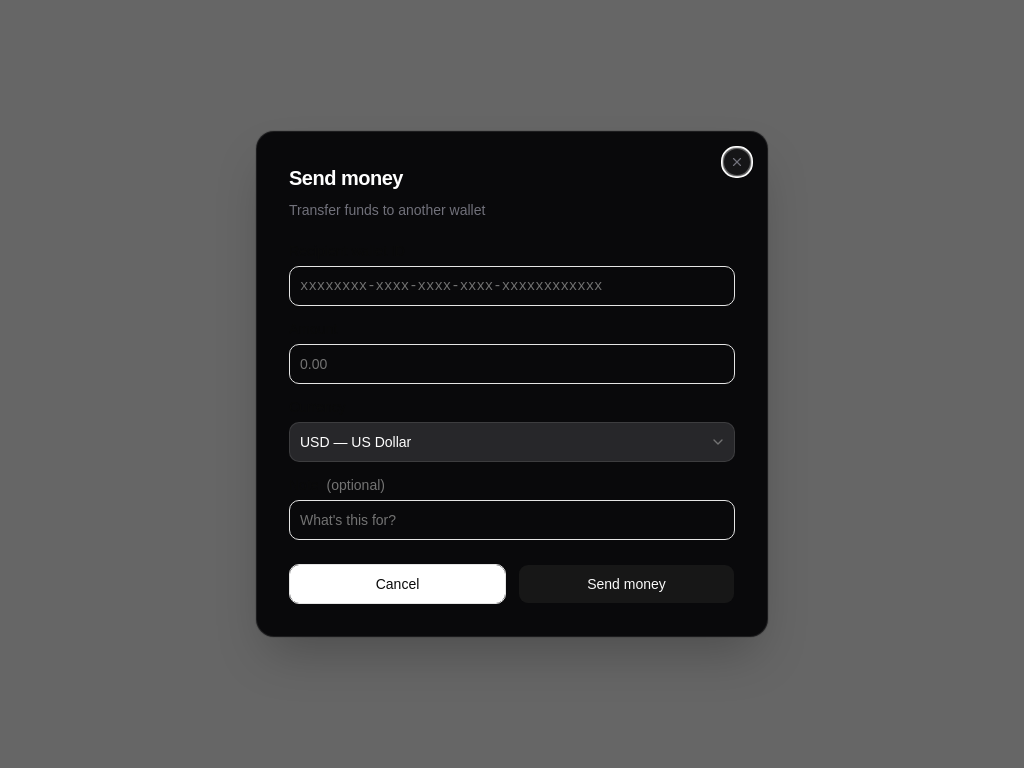
SendMoneyModal — form validation › shows error when amount is zero
Type "12345678-1234-4234-8234-123456789012" into the field labelled "Recipient wallet ID".
click(512, 286); type("12345678-1234-4234-8234-123456789012")  # box [289,266,735,306]
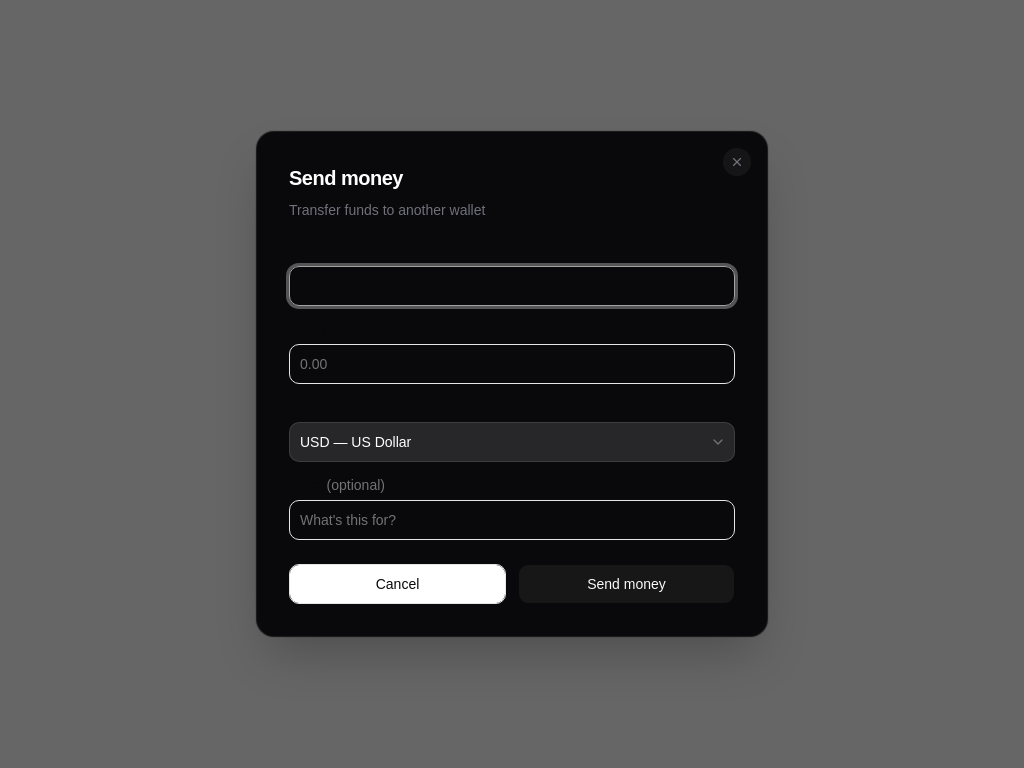
Type "0" into the field labelled "Amount".
click(512, 364); type("0")  # box [289,344,735,384]
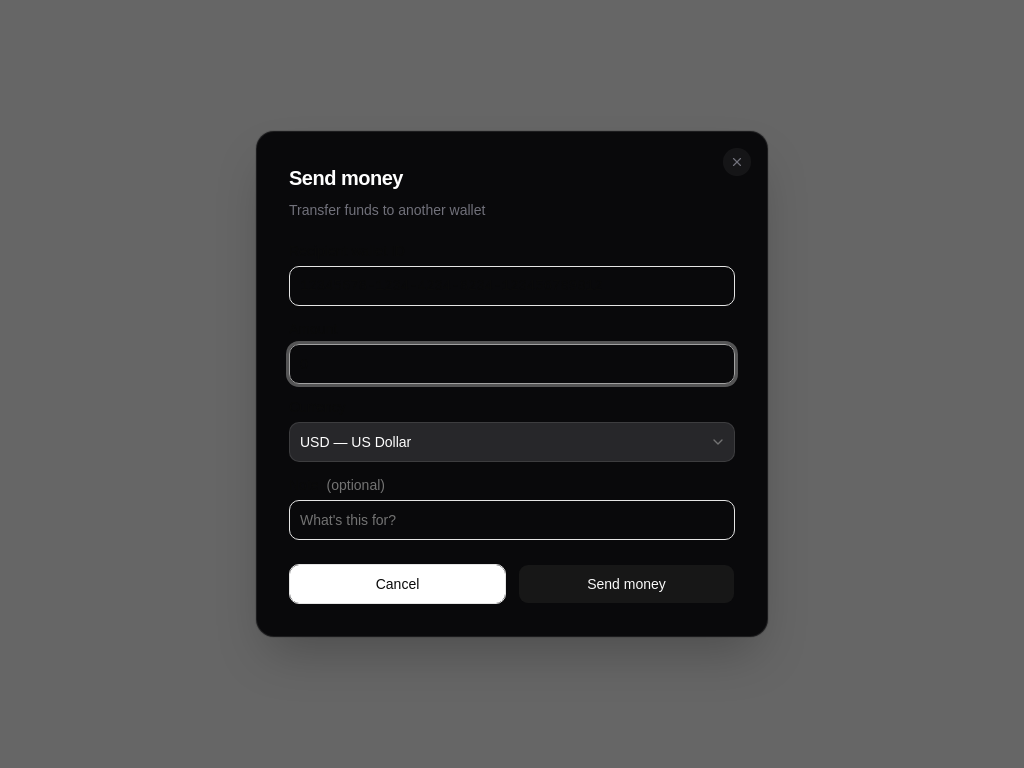
Click the button "Send money".
click(626, 584)  # box [518,564,735,604]
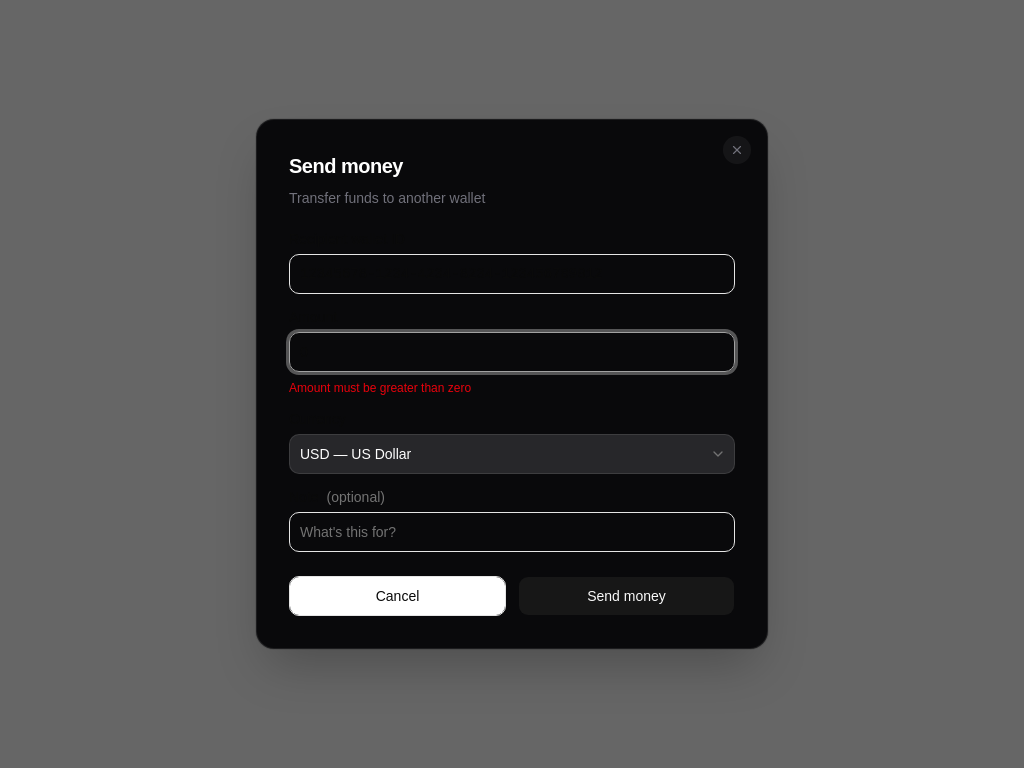
Now the text "Amount must be greater than zero" is shown, box [289,381,471,395]
